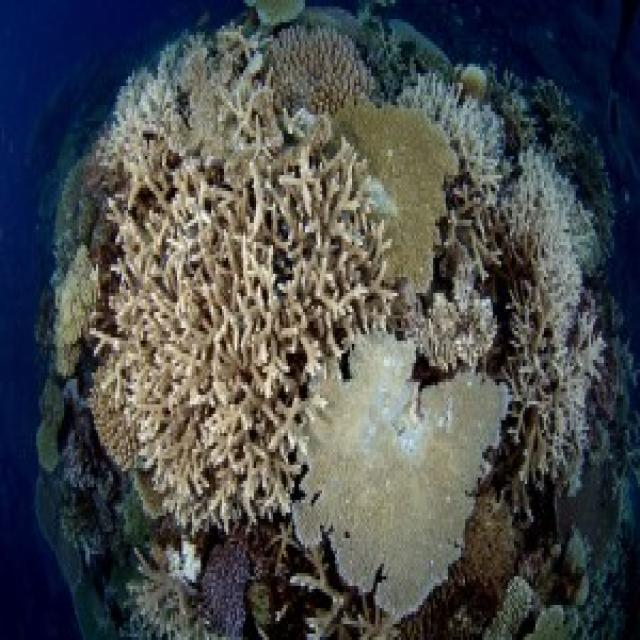Bleached: (95, 90, 396, 526), (295, 335, 507, 619), (502, 151, 594, 479), (101, 23, 268, 167), (402, 74, 498, 198)
Healthy: (330, 93, 455, 288), (421, 262, 496, 374), (272, 26, 372, 109), (202, 542, 253, 638)
